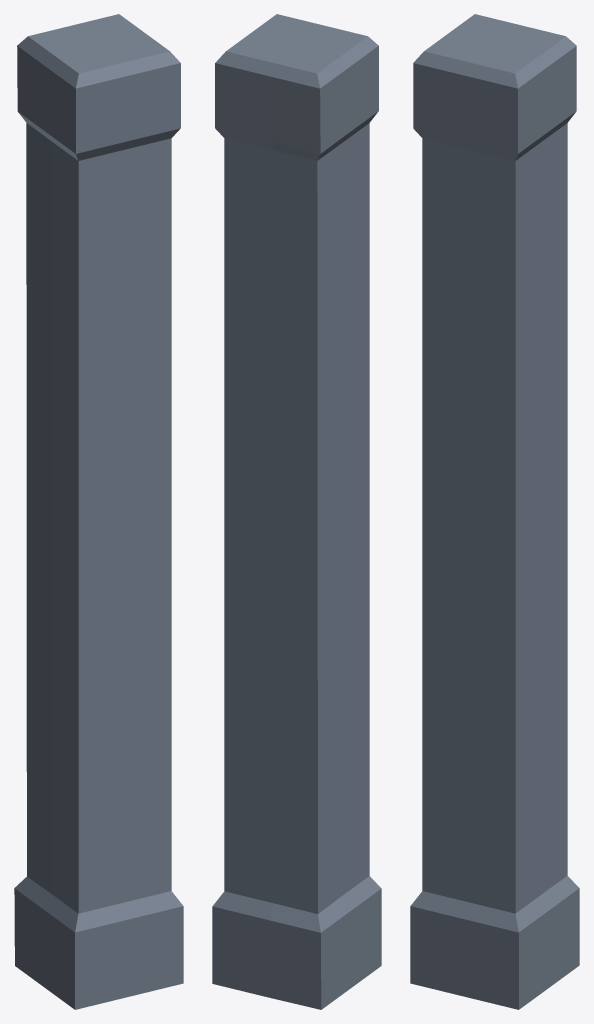
The model's file is g_o_GarageWallCorner360.fbx.
3 views of the same model, side by side, from view 1: azimuth 30°, elevation 25°; view 2: azimuth 150°, elevation 25°; view 3: azimuth 330°, elevation 25° (orthographic).
Parts seen in each view (by area): view 1: g_o_GarageWallCorner360; view 2: g_o_GarageWallCorner360; view 3: g_o_GarageWallCorner360.
Part boxes in pixels (x1,y1,x2,y2): g_o_GarageWallCorner360: [14, 14, 183, 1009]; g_o_GarageWallCorner360: [212, 14, 381, 1009]; g_o_GarageWallCorner360: [410, 14, 579, 1009].
Size of the model in its own units: 0.2294 by 1.88 by 0.2223.
